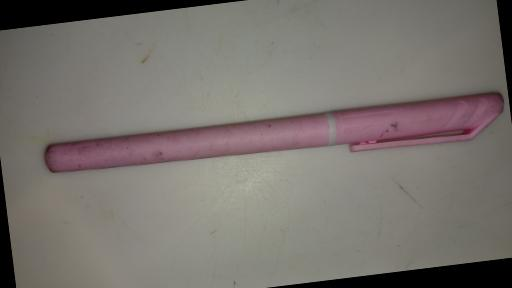pen: (40, 88, 508, 192)
